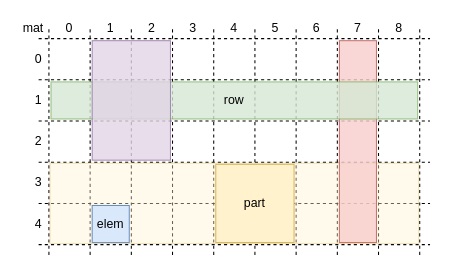
Some shapes in this 449 by 274 pixel diagram are drawn without their labels. Each missing label, with the centre of its shape:
"col" belongs at point (357, 141).
"sub" belongs at point (130, 100).
